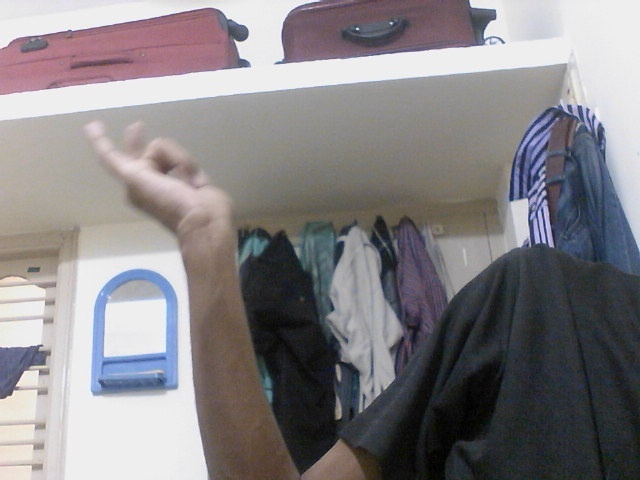hand: (83, 115, 237, 238)
